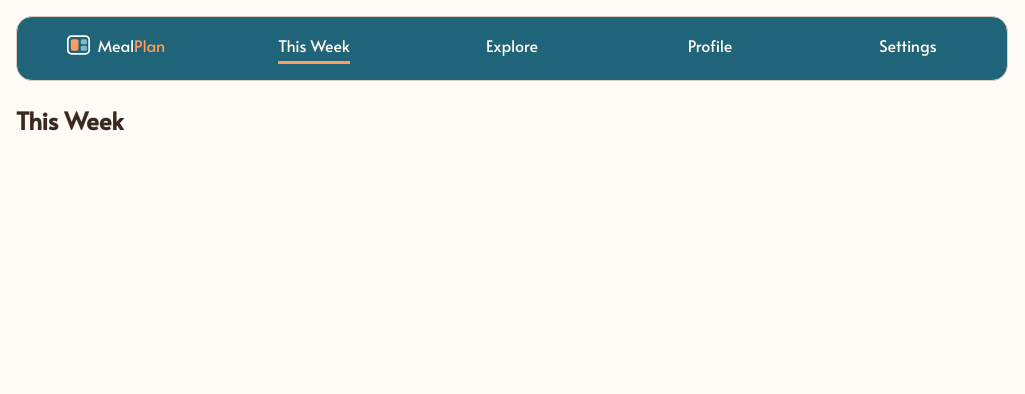
Test case: Sign Out returns to the signed-out view on the MealPlan tab
The width and height of the screenshot is (1025, 394).
Expected: the element showing "MealPlan This Week Explore Profile Settings" is shown, [16,16,1008,81]
Click the tab "Settings". click: (908, 48)
box: [809,17,1007,80]
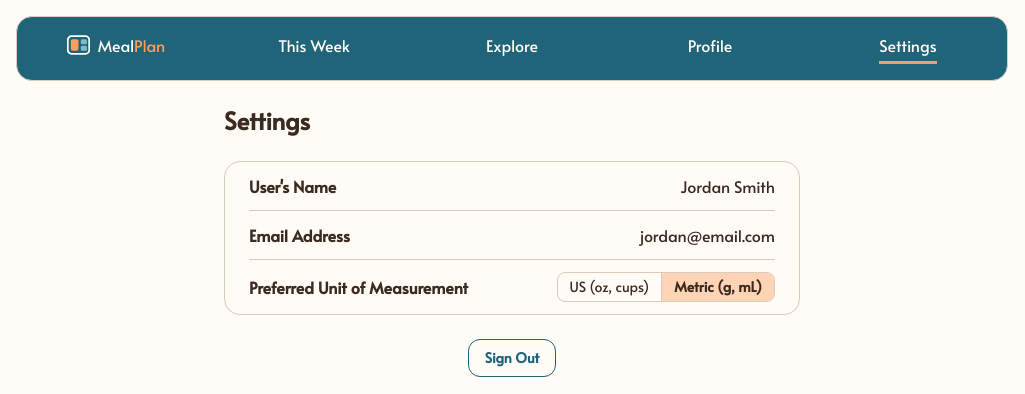
Click the button "Sign Out". click: (512, 358)
box: [468,339,556,377]
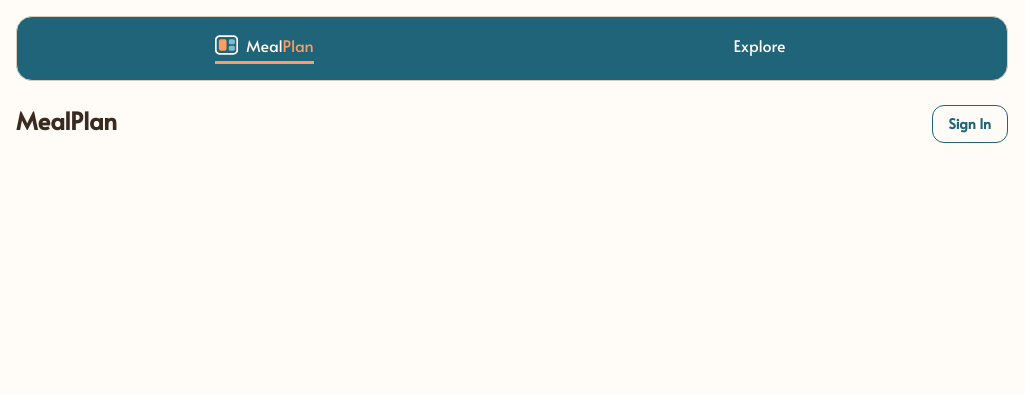
Expected: the number of tabs is 2, [17,17,512,80]; [512,17,1007,80]
Result: the button "Sign In" is shown at [932,105,1008,143]
Result: the text "jordan@email.com" is gone
